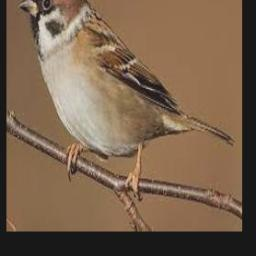Sparrow: (18, 0, 235, 200)
